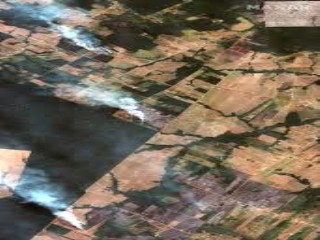smoke: (16, 172, 86, 233), (64, 79, 145, 122), (42, 14, 112, 61)
